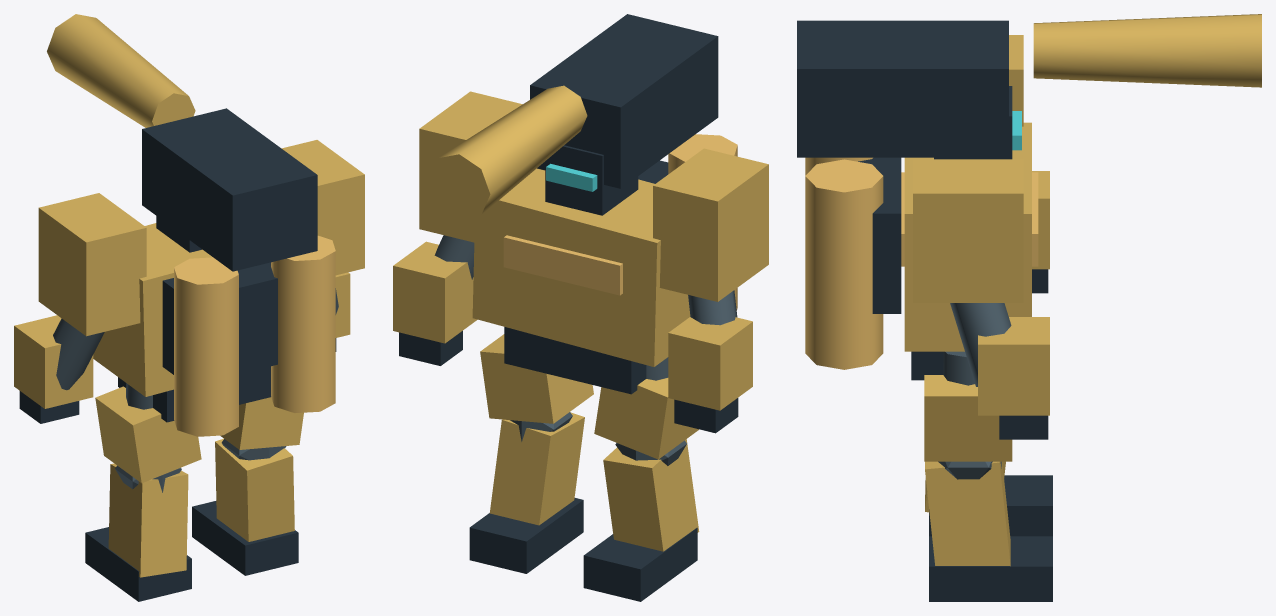
File: frame-genghis.glb
The picture shows the model from 3 angles, left to right: view 1: azimuth 30°, elevation 25°; view 2: azimuth 150°, elevation 25°; view 3: azimuth 270°, elevation 25°; orthographic projection. The views are drawn at different scales.
Visible parts, largest first — view 1: frame-genghis; view 2: frame-genghis; view 3: frame-genghis.
Boxes of the visible parts, <box> form: frame-genghis: <box>14,14,364,601</box>; frame-genghis: <box>393,14,768,601</box>; frame-genghis: <box>797,14,1261,601</box>.
Size of the model in its own units: 1.26 by 1.83 by 1.42.
